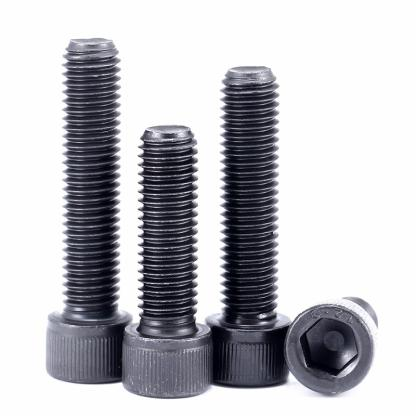FOD: (44, 34, 131, 387), (202, 64, 296, 390), (119, 124, 216, 401), (282, 294, 385, 396)
